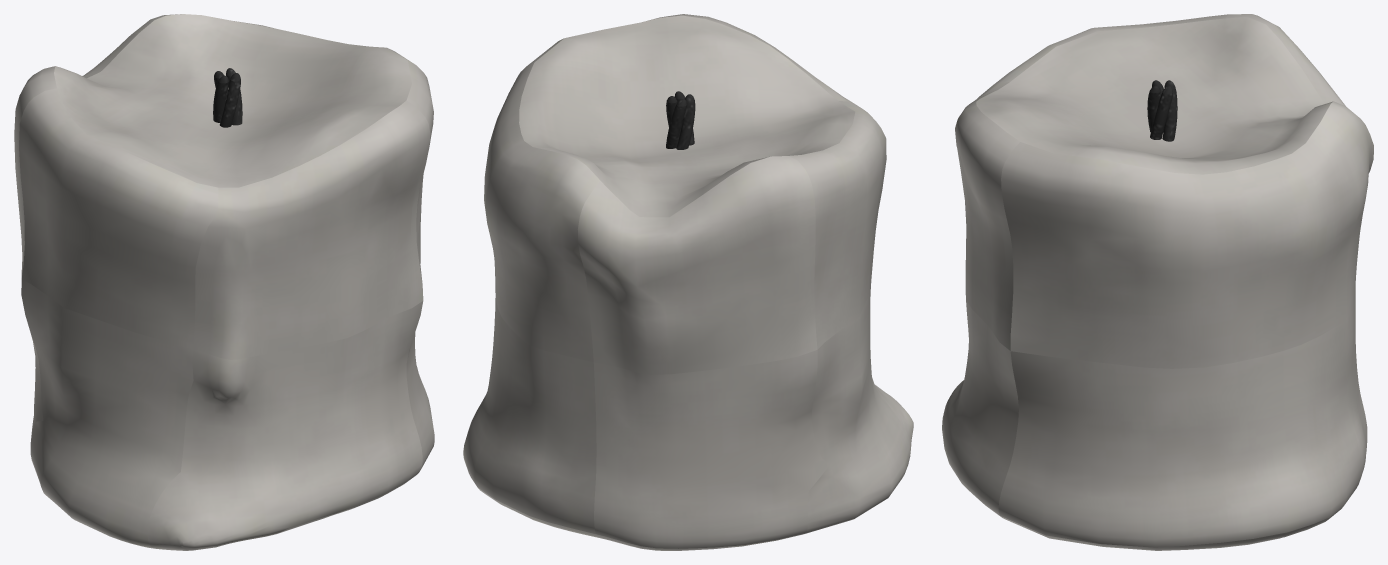
Rendered from sr_decor_candle_a01.glb.
The picture shows the model from 3 angles, left to right: view 1: azimuth 30°, elevation 25°; view 2: azimuth 150°, elevation 25°; view 3: azimuth 270°, elevation 25°; orthographic projection. The views are drawn at different scales.
Visible parts, largest first — view 1: m_opaque__wax__candle_a01_1; view 2: m_opaque__wax__candle_a01_1; view 3: m_opaque__wax__candle_a01_1.
Boxes of the visible parts, x1,y1,x2,y2 form: m_opaque__wax__candle_a01_1: [14, 14, 434, 550]; m_opaque__wax__candle_a01_1: [463, 14, 913, 550]; m_opaque__wax__candle_a01_1: [942, 14, 1373, 550].
Size of the model in its own units: 0.0745 by 0.0752 by 0.0744.
Materials: 1 (1 with a texture image).
